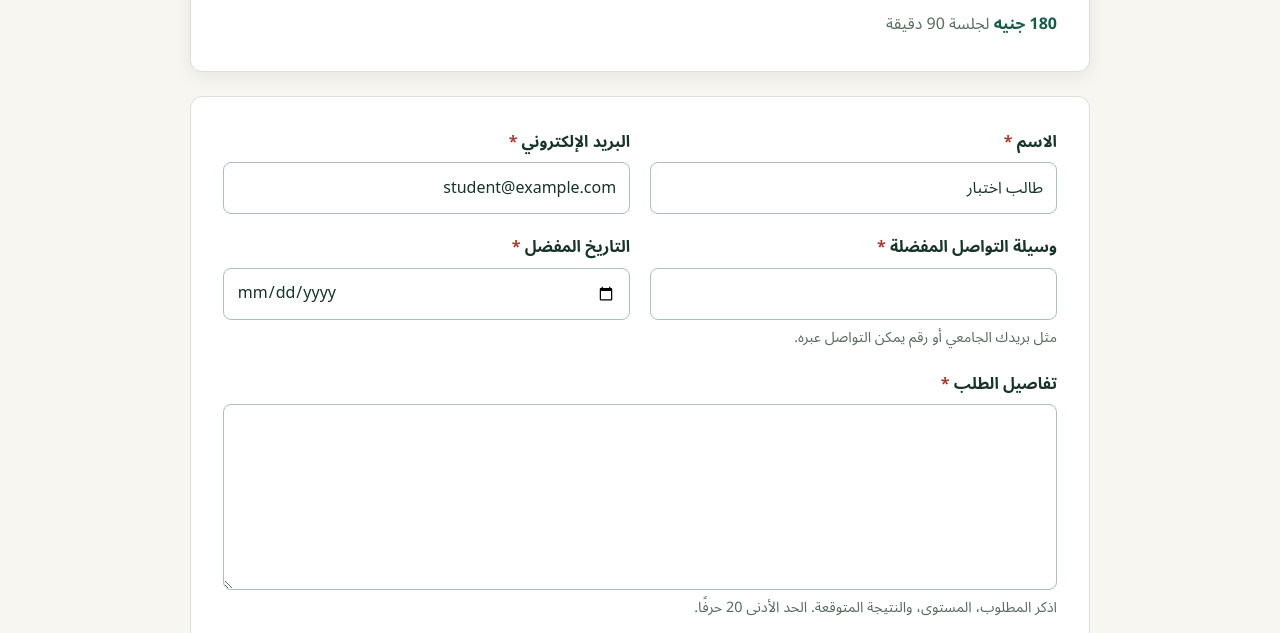
Test case: نموذج الطلب المبسط › لا يظهر نجاحًا عند فشل الحفظ
The width and height of the screenshot is (1280, 633).
(page scrolled)
Type "student@example.com" into the field labelled "وسيلة التواصل المفضلة" at coordinates (854, 294), box left=650, top=268, right=1057, bottom=320
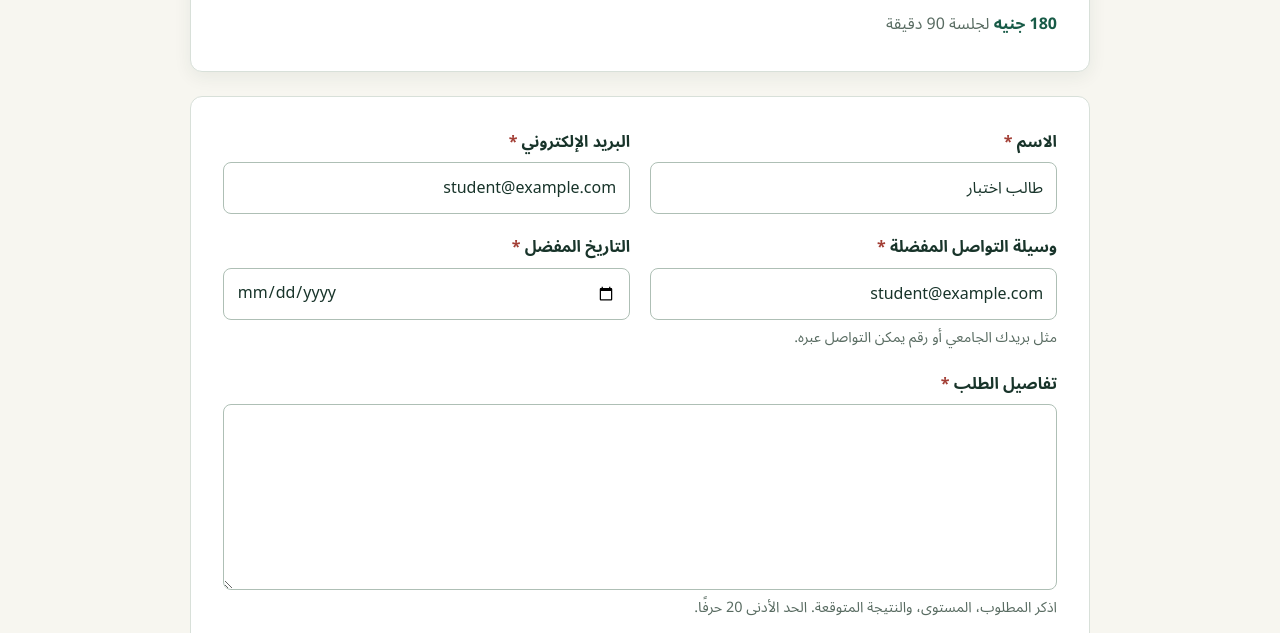
Type "2999-12-31" into the date field labelled "التاريخ المفضل" at coordinates (426, 294), box left=223, top=268, right=630, bottom=320
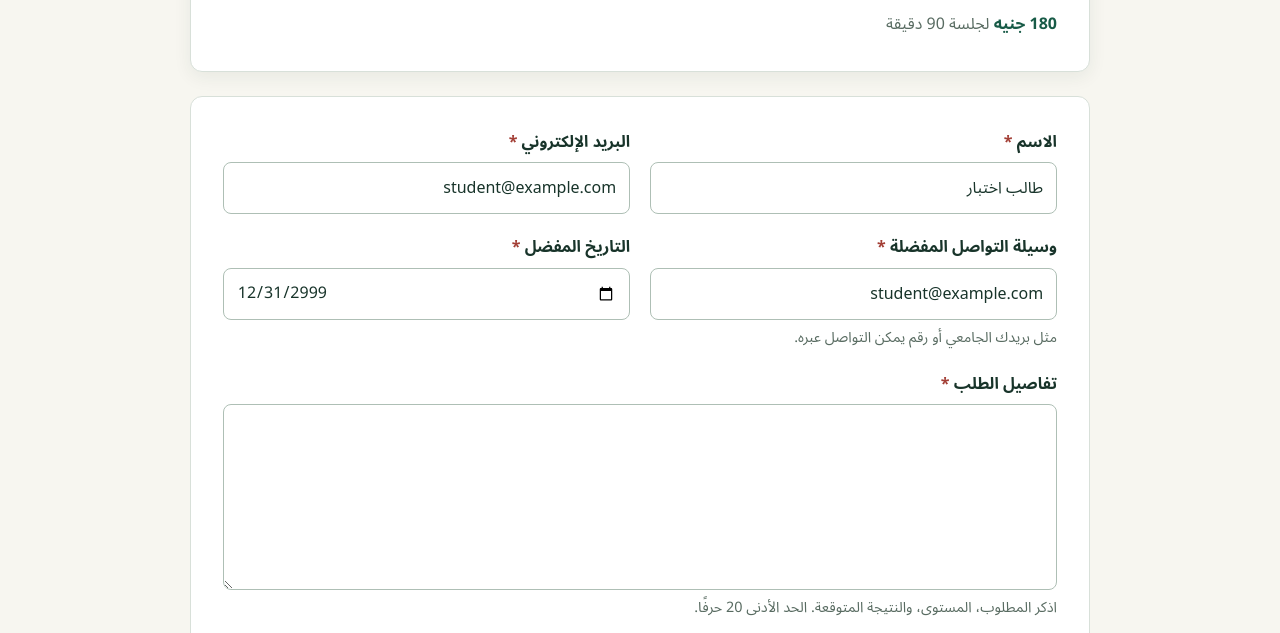
Type "أحتاج إلى شرح مفصل مع أمثلة عملية في هذا المقرر." into the text box labelled "تفاصيل الطلب" at coordinates (640, 497), box left=223, top=404, right=1057, bottom=590
(page scrolled)
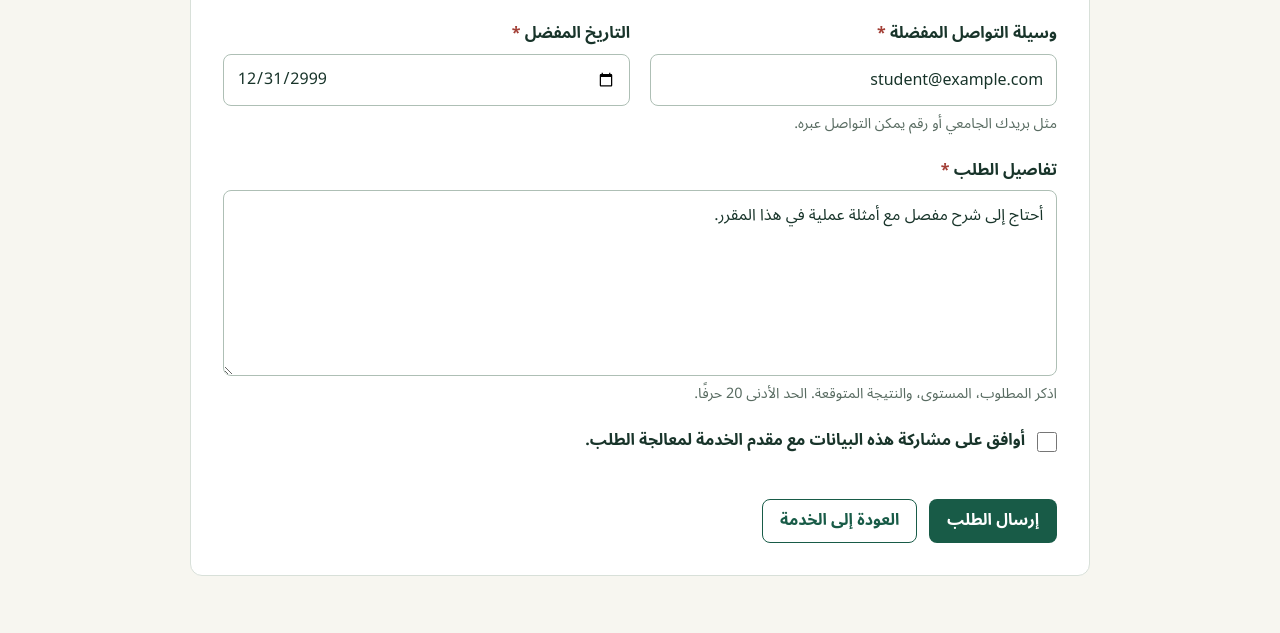
Click the checkbox at coordinates (1047, 442), box left=1037, top=432, right=1057, bottom=452
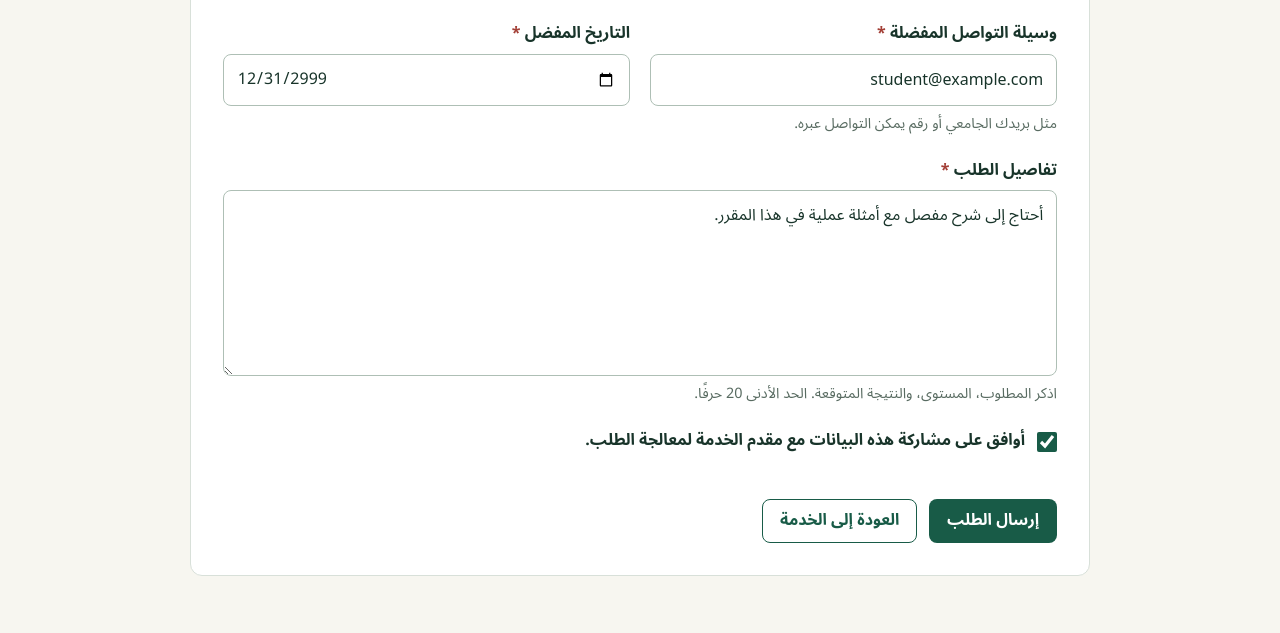
Click the button "إرسال الطلب" at coordinates (993, 521), box left=929, top=499, right=1057, bottom=543
(page scrolled)
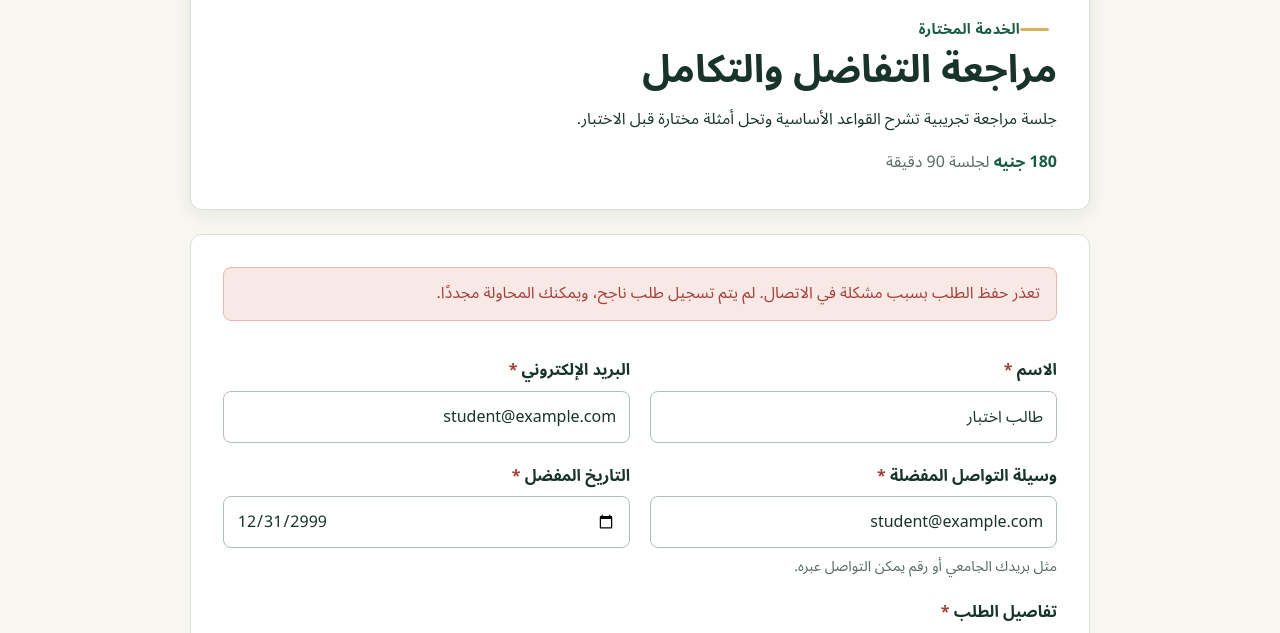
Expected: the text "تعذر حفظ الطلب بسبب مشكلة في الاتصال" is shown, left=436, top=276, right=1040, bottom=310
